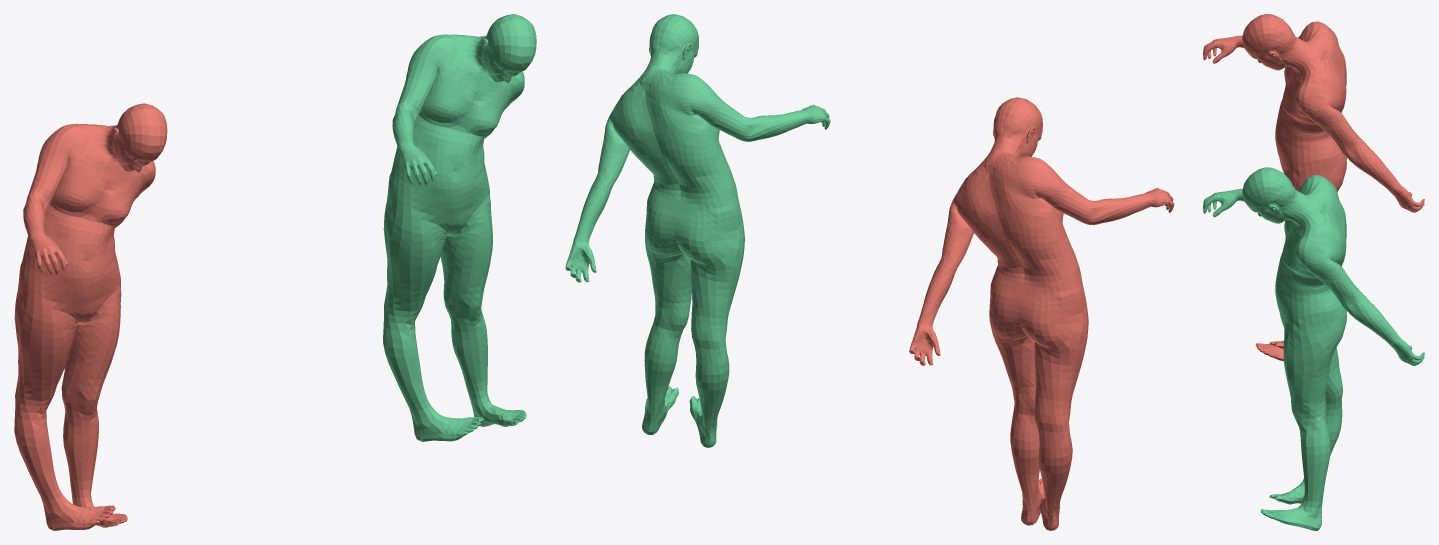
File: pose_454_before_after.glb
3 renders of one model, left to right at view 1: azimuth 30°, elevation 25°; view 2: azimuth 150°, elevation 25°; view 3: azimuth 270°, elevation 25°, orthographic. The views are drawn at different scales.
Parts seen in each view (by area): view 1: poseshield_green, input_red; view 2: poseshield_green, input_red; view 3: poseshield_green, input_red.
Part boxes in pixels (x1,y1,x2,y2): poseshield_green: (383, 14, 536, 441); input_red: (14, 103, 167, 530); poseshield_green: (565, 14, 830, 447); input_red: (909, 97, 1174, 530); poseshield_green: (1203, 167, 1424, 530); input_red: (1203, 14, 1424, 361).
Size of what is drawn, in the model's own units: 2.12 by 1.6 by 0.8843.
